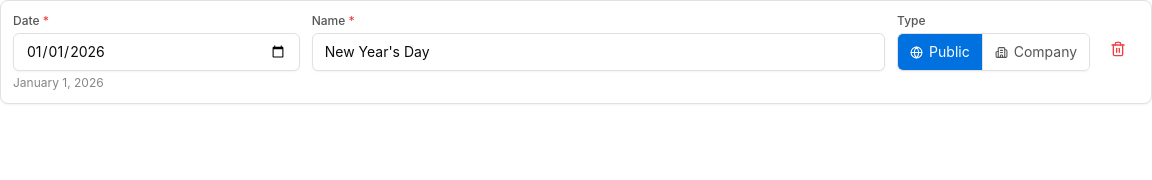
HolidayForm › delete confirm flow › cancel resets confirmation
Click the button named "delete holiday": (1118, 49) [1102, 33, 1134, 65]
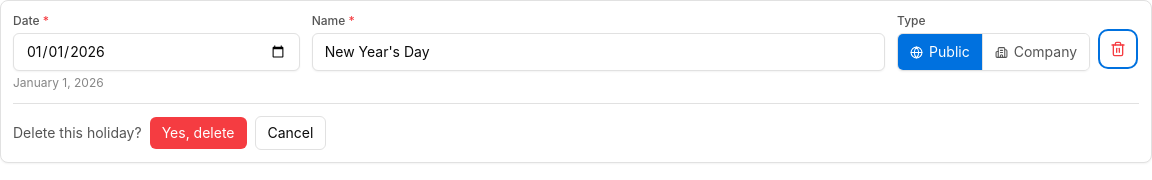
Click the button "Cancel": (290, 133) [254, 116, 326, 150]
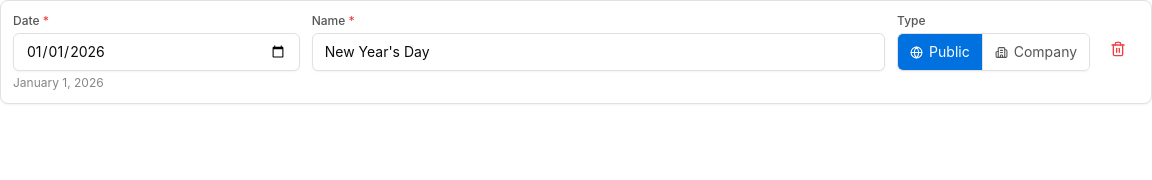
expect the text "Delete this holiday" is gone: met
